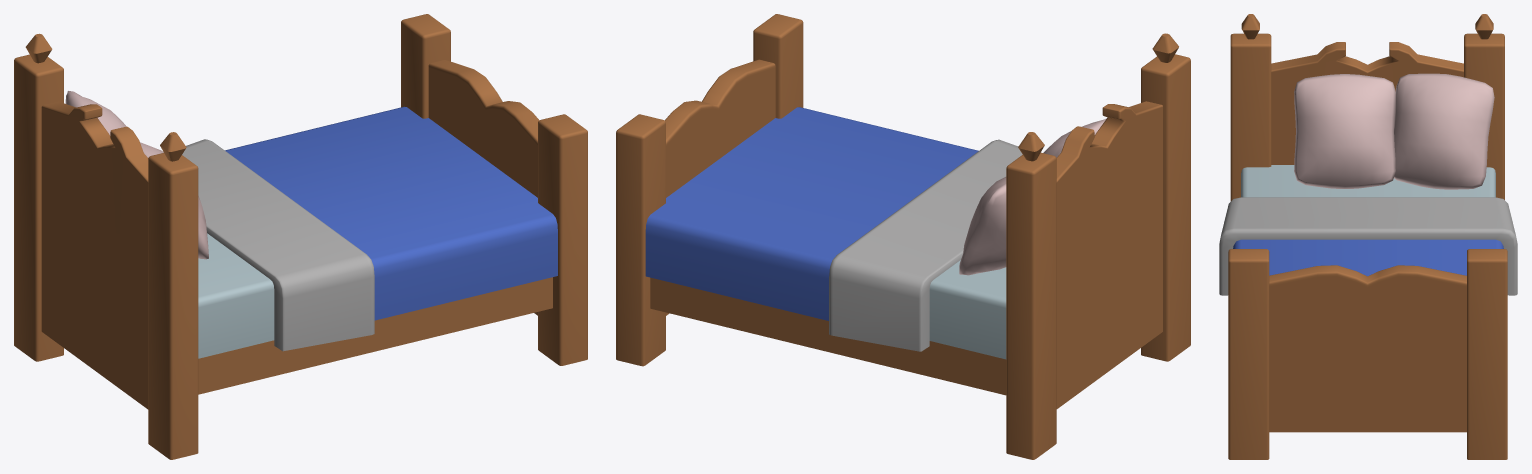
The model's file is Bed.FBX.
3 views of the same model, side by side, from view 1: azimuth 30°, elevation 25°; view 2: azimuth 150°, elevation 25°; view 3: azimuth 270°, elevation 25° (orthographic). The views are drawn at different scales.
Parts seen in each view (by area): view 1: Bed; view 2: Bed; view 3: Bed.
Boxes of the visible parts, x1,y1,x2,y2 form: Bed: (14,14,587,459); Bed: (616,14,1190,459); Bed: (1219,14,1517,459).
Bounding box in the file's own units: 39.32 × 28.34 × 28.01.
